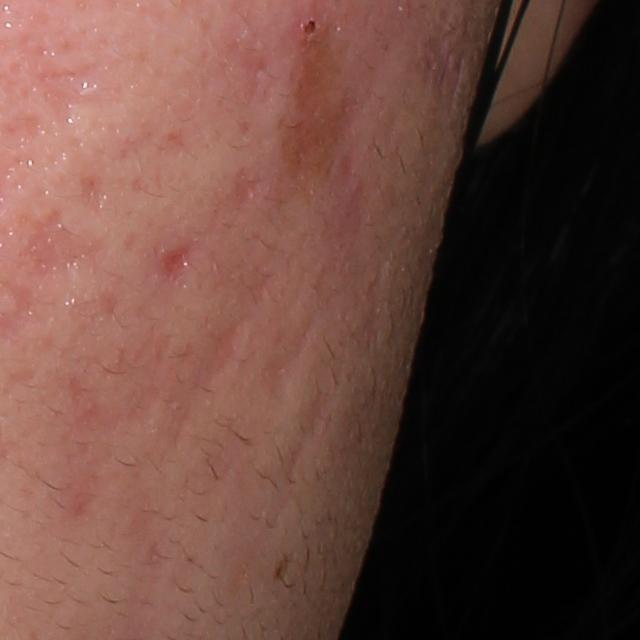atrophic_scar: (66, 365, 156, 523), (287, 334, 349, 482), (4, 203, 109, 282), (216, 11, 274, 152), (21, 35, 113, 121), (255, 317, 317, 399), (193, 312, 252, 396), (231, 163, 263, 215), (156, 248, 195, 282), (82, 172, 111, 211)
